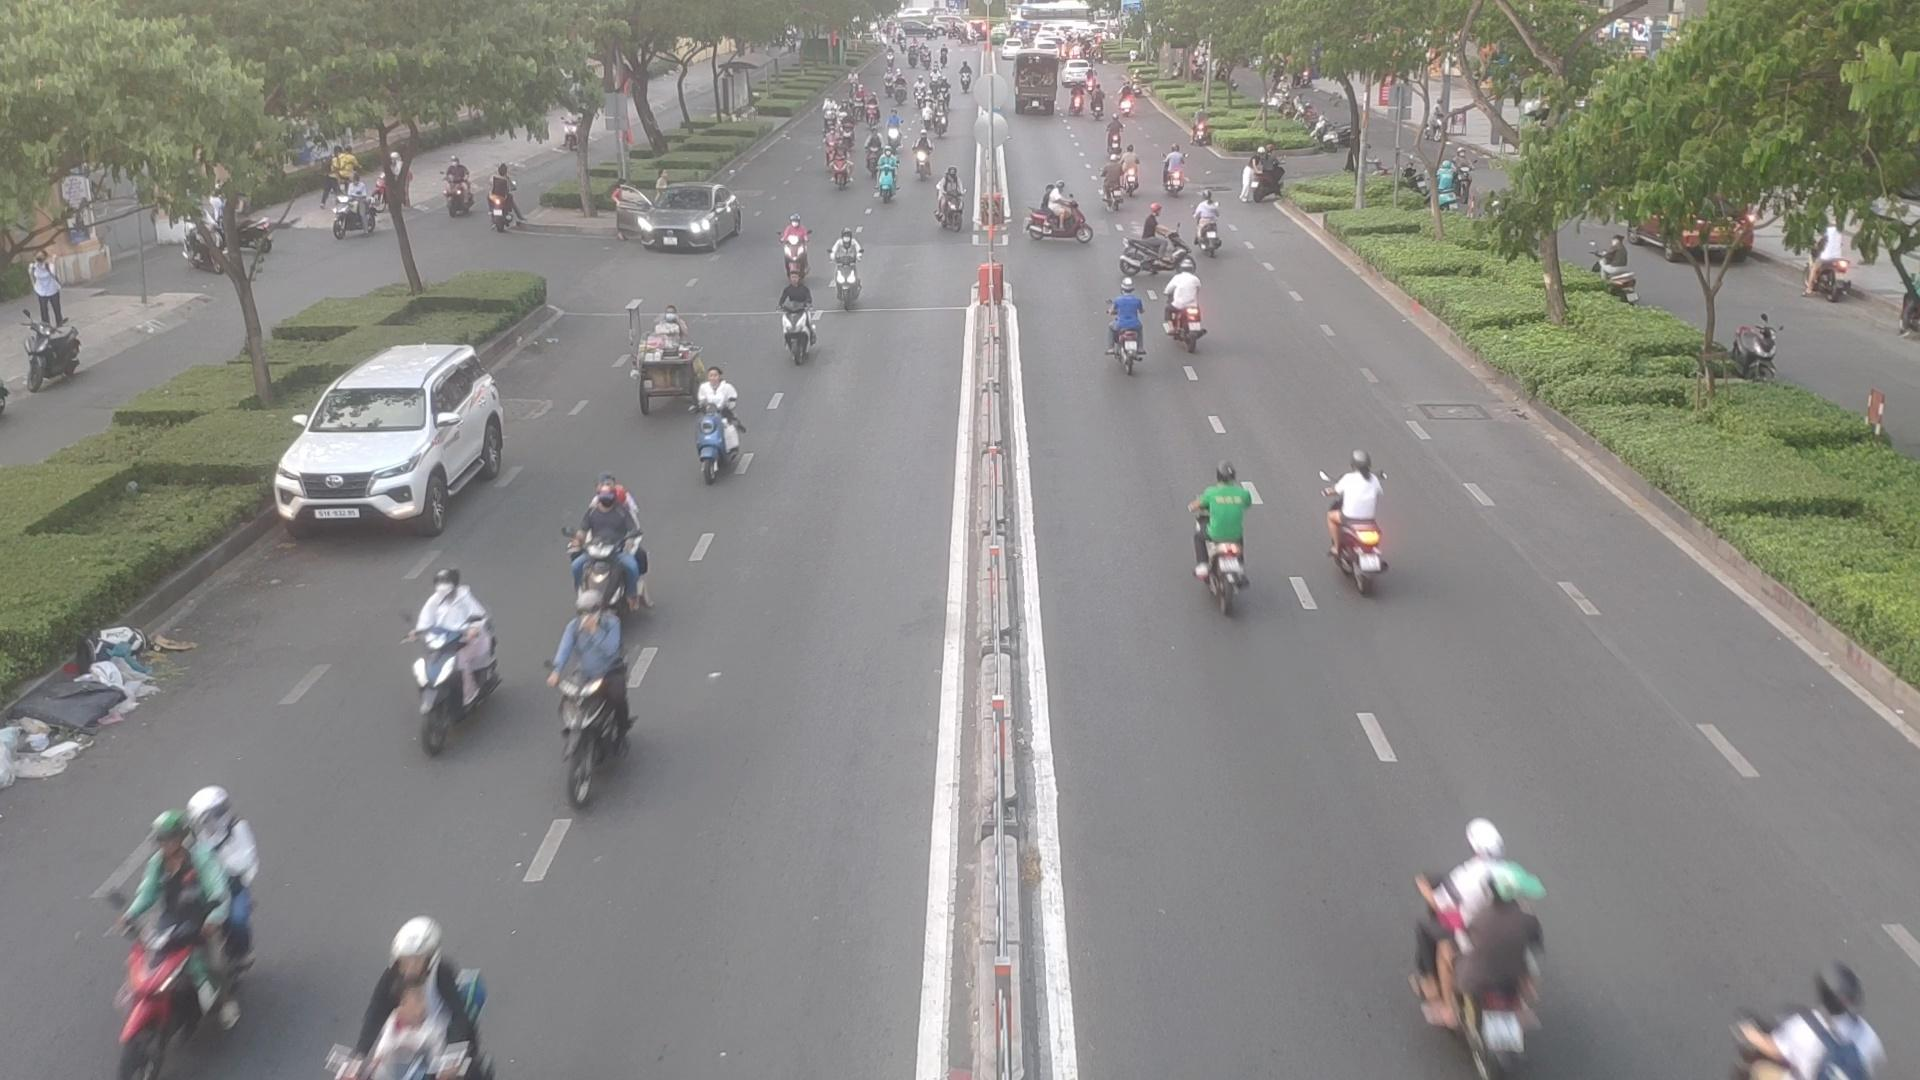car: (268, 342, 512, 535), (616, 186, 750, 258)
motorbike: (113, 781, 251, 1080), (1410, 814, 1549, 1069), (347, 914, 483, 1080), (404, 570, 491, 744), (551, 599, 622, 794), (568, 476, 646, 611), (1189, 467, 1257, 613), (1329, 443, 1390, 596), (694, 367, 746, 481), (774, 276, 823, 369), (1167, 264, 1216, 353), (1101, 291, 1149, 381), (1127, 207, 1196, 269), (825, 223, 869, 313), (1031, 190, 1091, 247), (936, 166, 971, 244), (777, 219, 816, 284), (1189, 189, 1229, 251), (829, 127, 858, 193), (1100, 141, 1124, 207), (877, 146, 897, 207), (876, 153, 894, 206)
